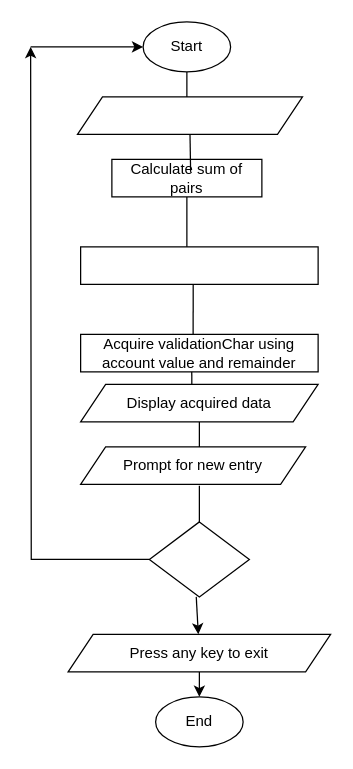
Some shapes in this 353 by 769 pixel diagram are drawn without their labels. The centre of each missing label's shape, as x and y in pixels:
"Calculate modular remainder(w/ sum of pairs)" belongs at (198,265).
"New Entry? Y/N" belongs at (198,559).
"Prompt for account code" belongs at (189,115).
